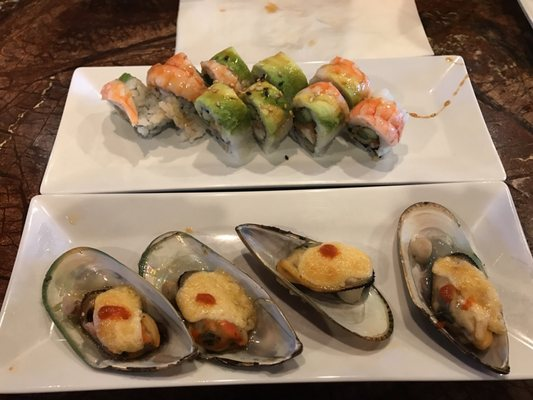curry: (9, 10, 531, 398)
